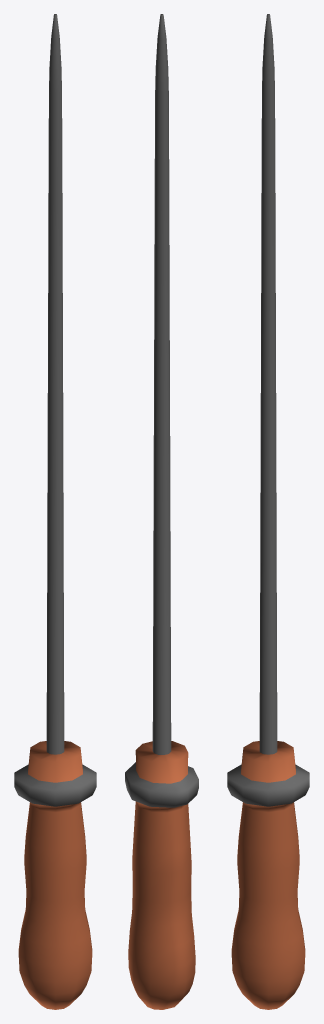
The model's file is icepick.fbx.
3 views of the same model, side by side, from view 1: azimuth 90°, elevation 25°; view 2: azimuth 210°, elevation 25°; view 3: azimuth 270°, elevation 25° (orthographic).
Visible parts, largest first — view 1: icepick; view 2: icepick; view 3: icepick.
Boxes of the visible parts, box(x1,y1,x2,y2) form: icepick: box(14, 14, 96, 1009); icepick: box(125, 14, 198, 1009); icepick: box(227, 14, 309, 1009).
Bounding box in the file's own units: 0.0734 × 1.11 × 0.0837.
